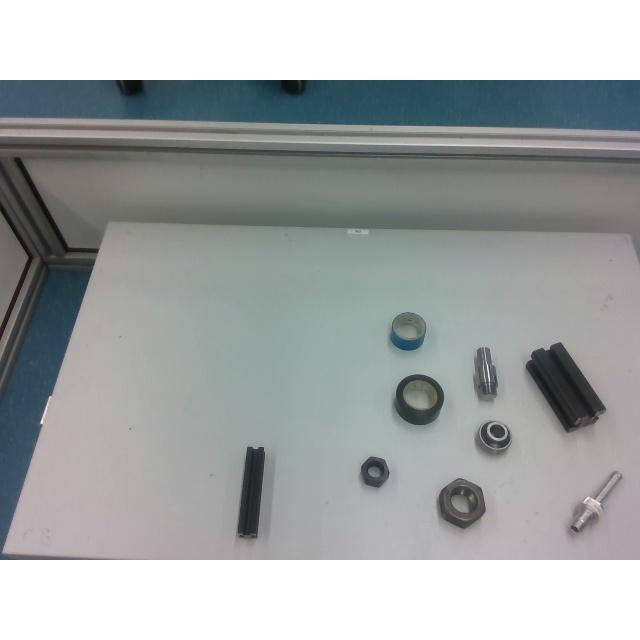Axis2: (476, 348, 496, 400)
Bearing2: (476, 420, 512, 456)
F20_20_B: (236, 446, 266, 538)
M20: (359, 456, 388, 486)
M30: (436, 478, 484, 526)
S40_40_B: (525, 341, 607, 432)
